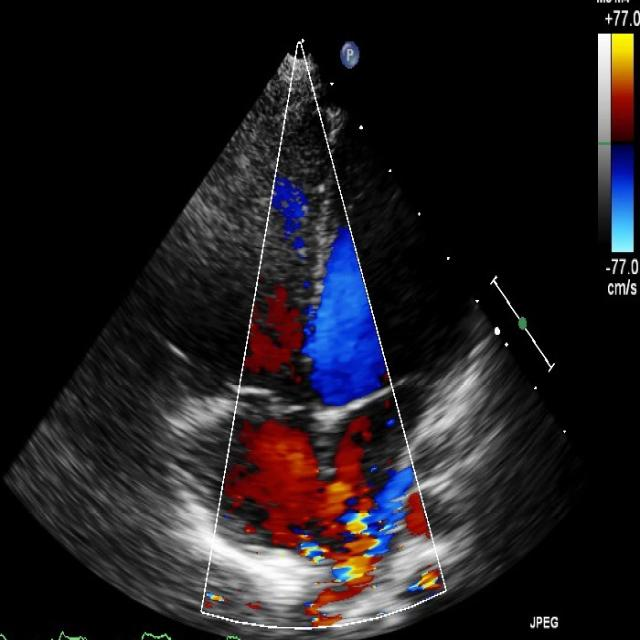ASDType2: (227, 393, 429, 583)
